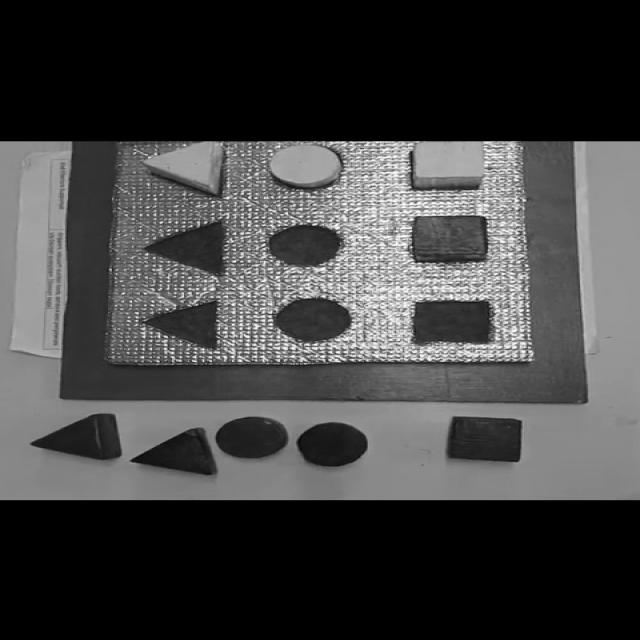bcircle: (298, 422, 369, 467)
bcube: (447, 416, 523, 462)
btriangle: (131, 428, 218, 476)
mtcircle: (274, 296, 354, 342), (267, 224, 343, 266)
mtcube: (409, 299, 496, 345)
mttriangle: (142, 219, 231, 276), (140, 300, 222, 348)
rcircle: (216, 417, 287, 458)
rcube: (413, 215, 489, 262)
rtriangle: (29, 413, 122, 461)
wb: (101, 140, 536, 364)
ycircle: (268, 143, 342, 189)
ycube: (411, 141, 485, 189)
ytriangle: (142, 140, 225, 197)
